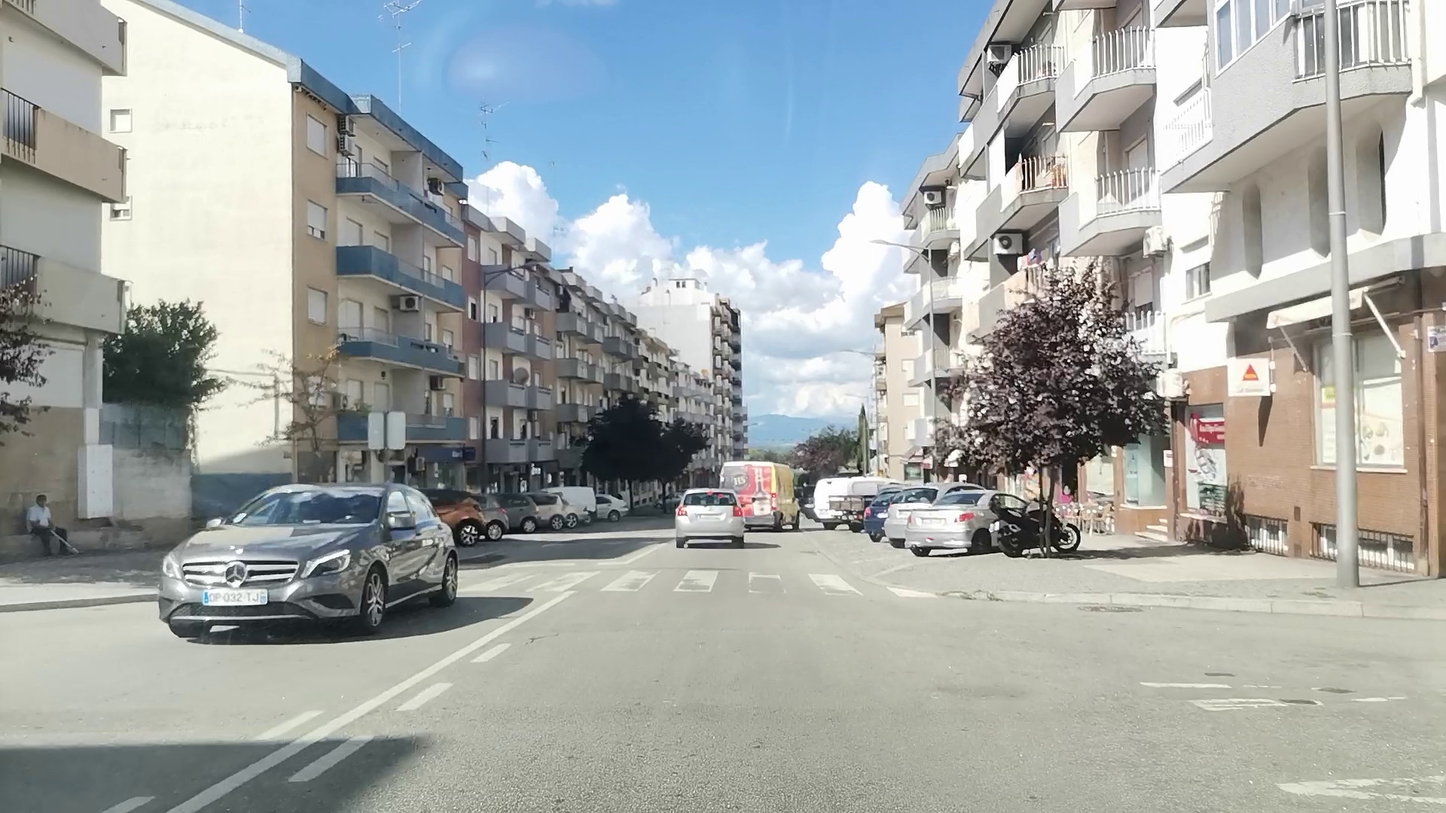Stairs: (466, 567, 935, 595)
